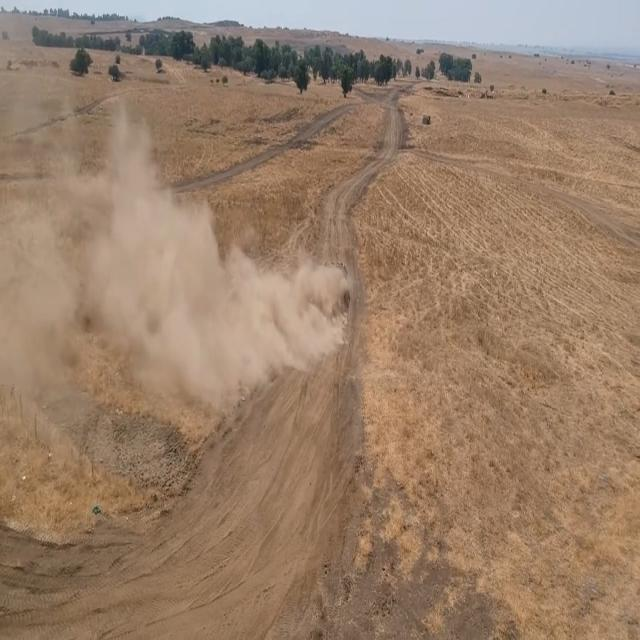tank: (317, 261, 351, 317)
